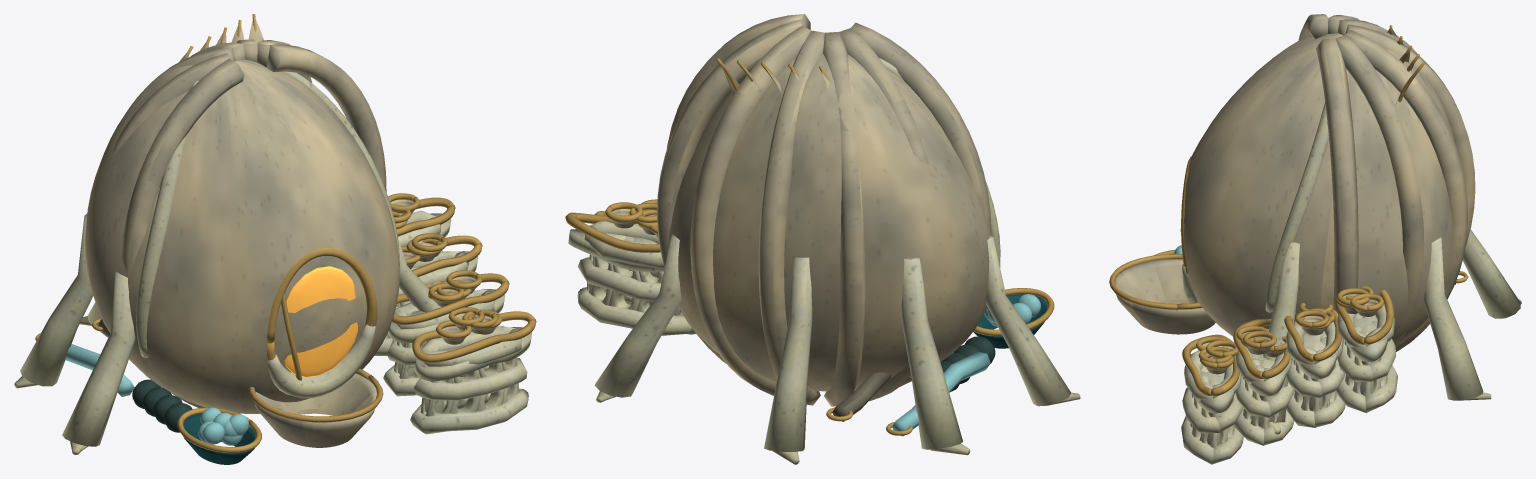
File: 09_ceramic_kiln.glb
The picture shows the model from 3 angles, left to right: view 1: azimuth 30°, elevation 25°; view 2: azimuth 150°, elevation 25°; view 3: azimuth 270°, elevation 25°; orthographic projection. The views are drawn at different scales.
Visible parts, largest first — view 1: GrowthShellMesh.008, GrowthFrameMesh.008, CargoOutput__fired_ceramicMesh, DormancyMesh.006, ActivityMesh.006, CargoInput__anoxic_organicsMesh, CargoInput__prepared_silicaMesh; view 2: GrowthShellMesh.008, GrowthFrameMesh.008, CargoOutput__fired_ceramicMesh, CargoInput__anoxic_organicsMesh, CargoInput__prepared_silicaMesh; view 3: GrowthShellMesh.008, GrowthFrameMesh.008, CargoOutput__fired_ceramicMesh.
Boxes of the visible parts, x1,y1,x2,y2 form: GrowthShellMesh.008: (65,19,399,464); GrowthFrameMesh.008: (14,14,536,454); CargoOutput__fired_ceramicMesh: (388,193,502,344); DormancyMesh.006: (274,256,366,372); ActivityMesh.006: (284,266,357,377); CargoInput__anoxic_organicsMesh: (132,379,192,432); CargoInput__prepared_silicaMesh: (198,407,249,445); GrowthShellMesh.008: (657,14,1047,436); GrowthFrameMesh.008: (565,58,1080,464); CargoOutput__fired_ceramicMesh: (605,199,658,238); CargoInput__anoxic_organicsMesh: (940,336,995,391); CargoInput__prepared_silicaMesh: (984,294,1040,326); GrowthShellMesh.008: (1115,14,1475,351); GrowthFrameMesh.008: (1109,25,1521,464); CargoOutput__fired_ceramicMesh: (1196,286,1384,374).
Bounding box in the file's own units: 3.99 × 3.17 × 3.48.
8 materials, 8 textured.
